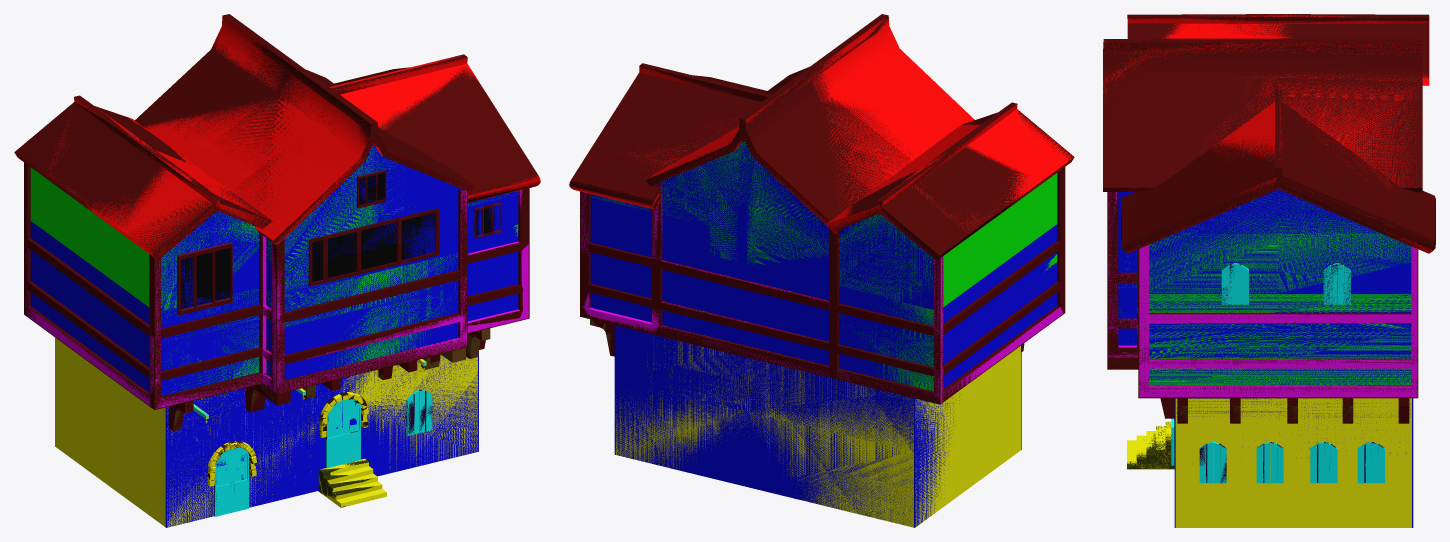
File: RuinedTown_House_Set_01_High.fbx
3 renders of one model, left to right at view 1: azimuth 30°, elevation 25°; view 2: azimuth 150°, elevation 25°; view 3: azimuth 270°, elevation 25°, orthographic. The views are drawn at different scales.
Parts seen in each view (by area): view 1: RuinedTown_House_Set_01_Low, RuinedTown_House_Set_01_High; view 2: RuinedTown_House_Set_01_Low, RuinedTown_House_Set_01_High; view 3: RuinedTown_House_Set_01_Low, RuinedTown_House_Set_01_High.
Boxes of the visible parts, x1=… form: RuinedTown_House_Set_01_Low: x1=14, y1=14, x2=539, y2=527; RuinedTown_House_Set_01_High: x1=24, y1=15, x2=540, y2=527; RuinedTown_House_Set_01_Low: x1=569, y1=14, x2=1074, y2=527; RuinedTown_House_Set_01_High: x1=569, y1=17, x2=1073, y2=527; RuinedTown_House_Set_01_Low: x1=1103, y1=14, x2=1435, y2=527; RuinedTown_House_Set_01_High: x1=1103, y1=14, x2=1433, y2=527.
Size of the model in its own units: 12.63 by 12.21 by 8.85.
